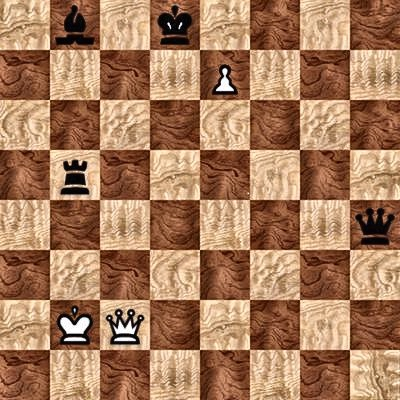black-bishop: (50, 0, 100, 50)
black-king: (150, 0, 200, 50)
black-queen: (350, 200, 400, 250)
black-rook: (50, 150, 100, 200)
white-king: (50, 300, 100, 350)
white-pawn: (200, 50, 250, 100)
white-queen: (100, 300, 150, 350)
